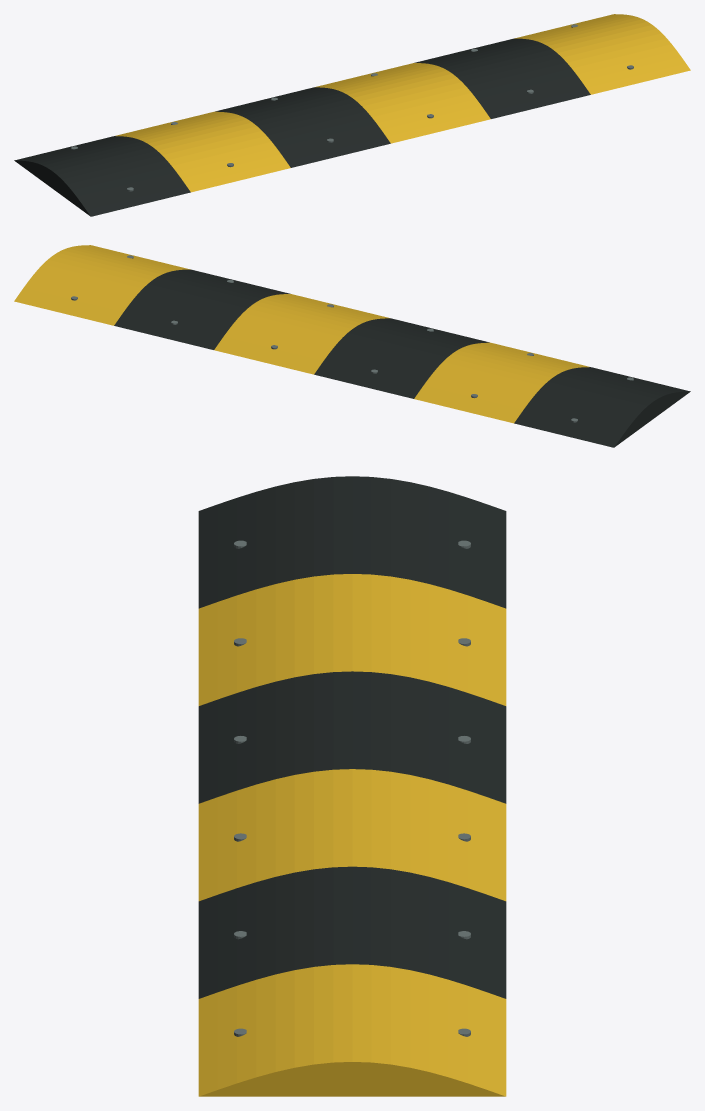
The model's file is road-speed-hump.glb.
3 views of the same model, one above another, from view 1: azimuth 30°, elevation 25°; view 2: azimuth 150°, elevation 25°; view 3: azimuth 270°, elevation 25° (orthographic). The views are drawn at different scales.
Parts seen in each view (by area): view 1: SEGMENT_0, SEGMENT_2, SEGMENT_5, SEGMENT_1, SEGMENT_4, SEGMENT_3; view 2: SEGMENT_0, SEGMENT_2, SEGMENT_5, SEGMENT_1, SEGMENT_4, SEGMENT_3; view 3: SEGMENT_5, SEGMENT_0, SEGMENT_1, SEGMENT_4, SEGMENT_3, SEGMENT_2.
Boxes of the visible parts, left/top/right/bottom form: SEGMENT_0: left=14, top=136, right=190, bottom=216; SEGMENT_2: left=215, top=87, right=390, bottom=167; SEGMENT_5: left=514, top=14, right=690, bottom=94; SEGMENT_1: left=115, top=111, right=290, bottom=192; SEGMENT_4: left=414, top=38, right=590, bottom=118; SEGMENT_3: left=315, top=63, right=490, bottom=143; SEGMENT_0: left=514, top=367, right=690, bottom=447; SEGMENT_2: left=314, top=318, right=489, bottom=398; SEGMENT_5: left=14, top=245, right=190, bottom=325; SEGMENT_1: left=414, top=342, right=589, bottom=423; SEGMENT_4: left=114, top=269, right=290, bottom=349; SEGMENT_3: left=214, top=294, right=389, bottom=374; SEGMENT_5: left=198, top=964, right=506, bottom=1096; SEGMENT_0: left=198, top=476, right=506, bottom=608; SEGMENT_1: left=198, top=574, right=506, bottom=705; SEGMENT_4: left=198, top=866, right=506, bottom=998; SEGMENT_3: left=198, top=769, right=506, bottom=901; SEGMENT_2: left=198, top=671, right=506, bottom=803.
Bounding box in the file's own units: 3.6 × 0.1 × 0.8.
